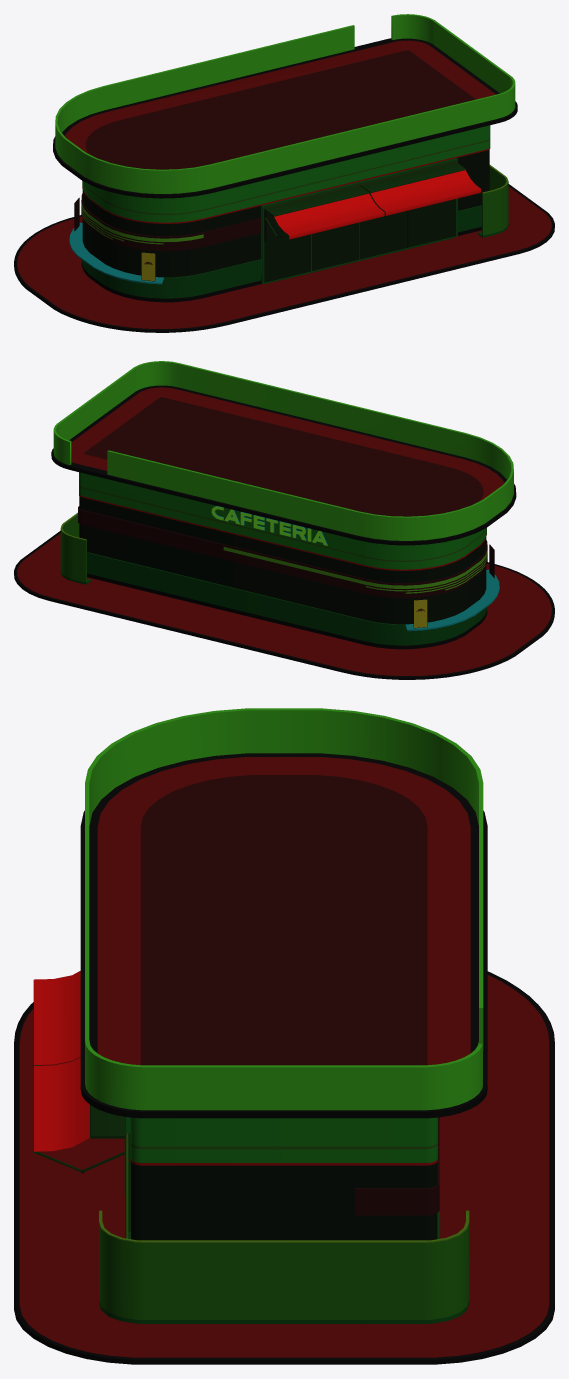
Rendered from Building_Cafe_003_L1.fbx.
3 views of the same model, one above another, from view 1: azimuth 30°, elevation 25°; view 2: azimuth 150°, elevation 25°; view 3: azimuth 270°, elevation 25° (orthographic). The views are drawn at different scales.
Visible parts, largest first — view 1: Building_Cafe_003_L1; view 2: Building_Cafe_003_L1; view 3: Building_Cafe_003_L1.
Boxes of the visible parts, x1,y1,x2,y2 form: Building_Cafe_003_L1: [14, 14, 554, 332]; Building_Cafe_003_L1: [14, 361, 554, 679]; Building_Cafe_003_L1: [14, 708, 554, 1364].
Bounding box in the file's own units: 19.75 × 5.86 × 10.75.
